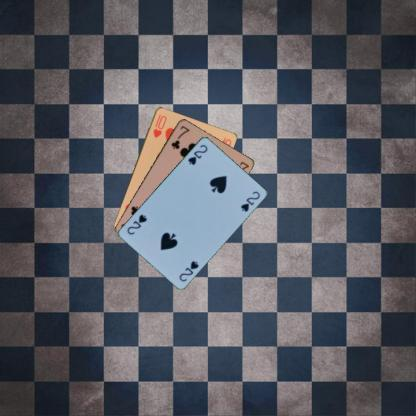10h: (150, 112, 168, 140)
2s: (177, 258, 200, 282), (186, 142, 208, 167)
7c: (168, 122, 191, 150)
